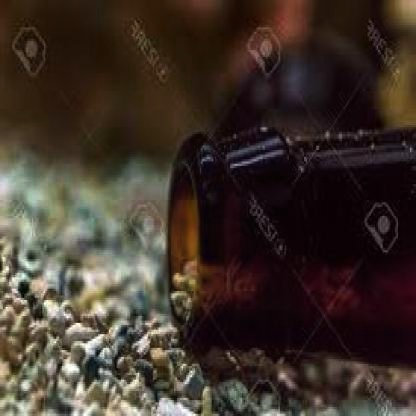gbottle: (169, 134, 416, 362)
